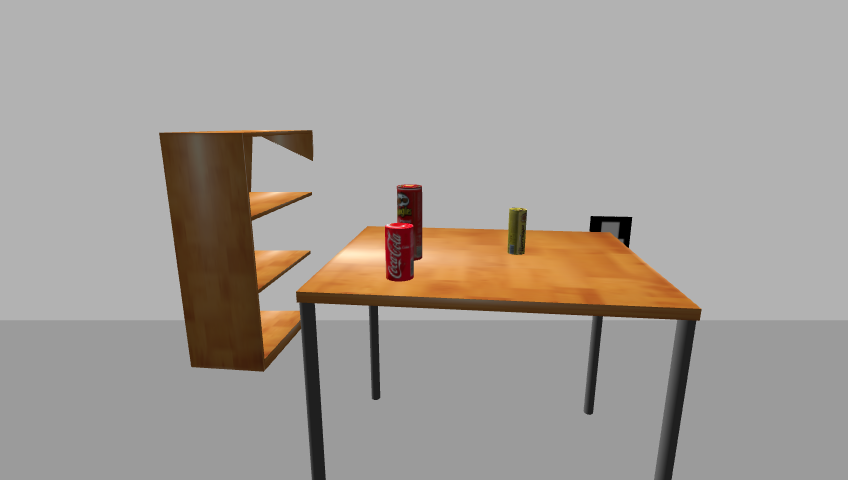aruco marker: (585, 214, 636, 251)
biscuits pack: (506, 207, 528, 256)
bookshelf: (155, 127, 320, 376)
coke can: (383, 222, 417, 282)
dinner table: (291, 227, 709, 478)
pringles can: (395, 183, 423, 263)
